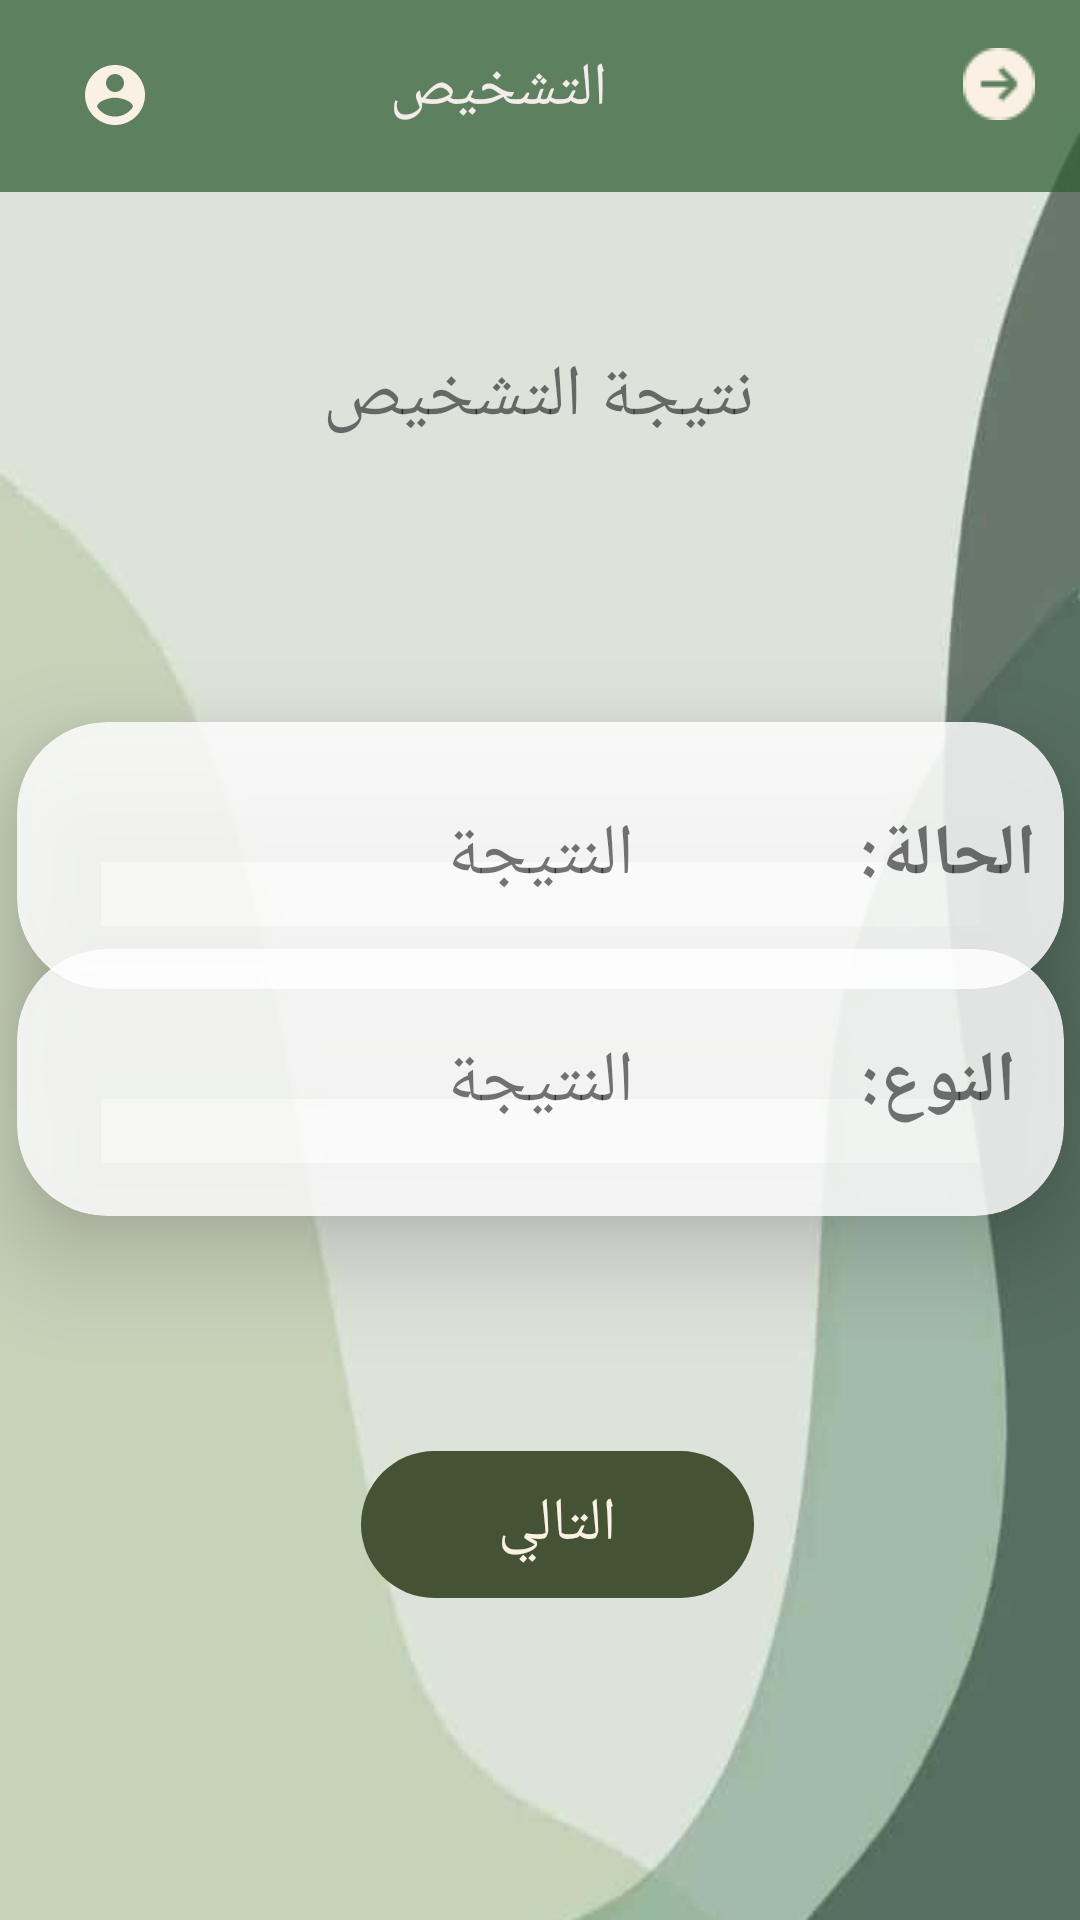

Where to tap for icons on this 1080 x 1920 app screen, as (x=x, y=y):
account: (x=115, y=95)
